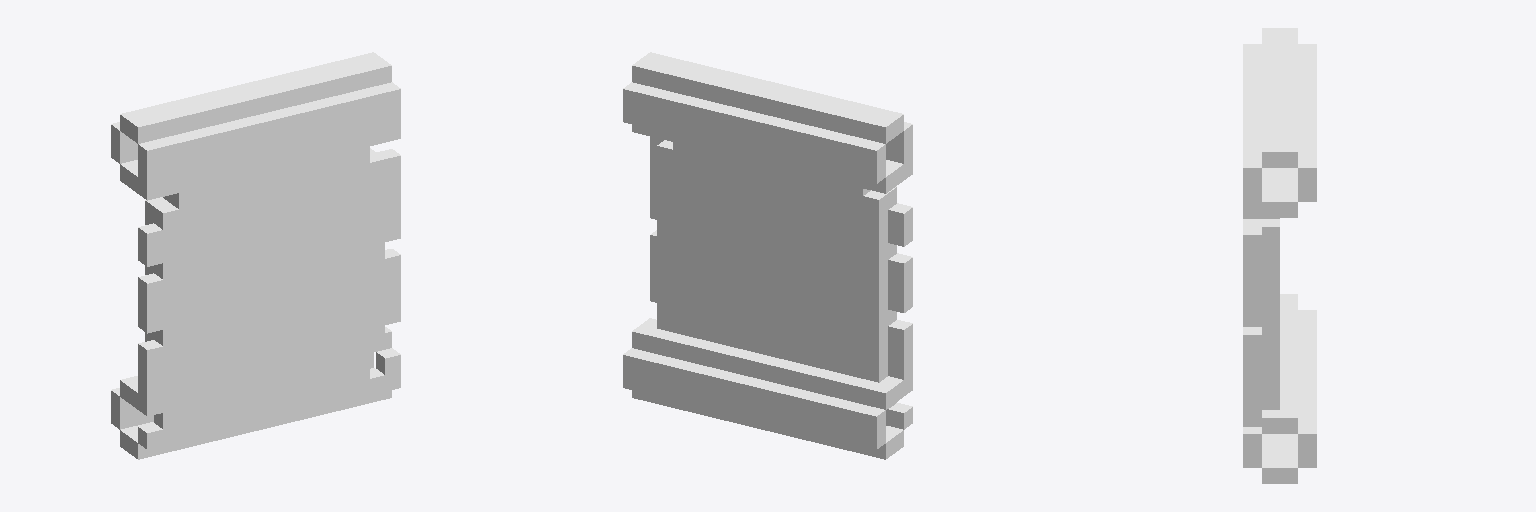
The model's file is weaponsshields-18.obj.
3 views of the same model, side by side, from view 1: azimuth 30°, elevation 25°; view 2: azimuth 150°, elevation 25°; view 3: azimuth 270°, elevation 25° (orthographic).
Parts seen in each view (by area): view 1: weaponsshields-18; view 2: weaponsshields-18; view 3: weaponsshields-18.
Boxes of the visible parts, <box> form: weaponsshields-18: <box>111,52,400,459</box>; weaponsshields-18: <box>623,52,912,459</box>; weaponsshields-18: <box>1243,28,1316,483</box>.
Size of the model in its own units: 16 by 20 by 4.